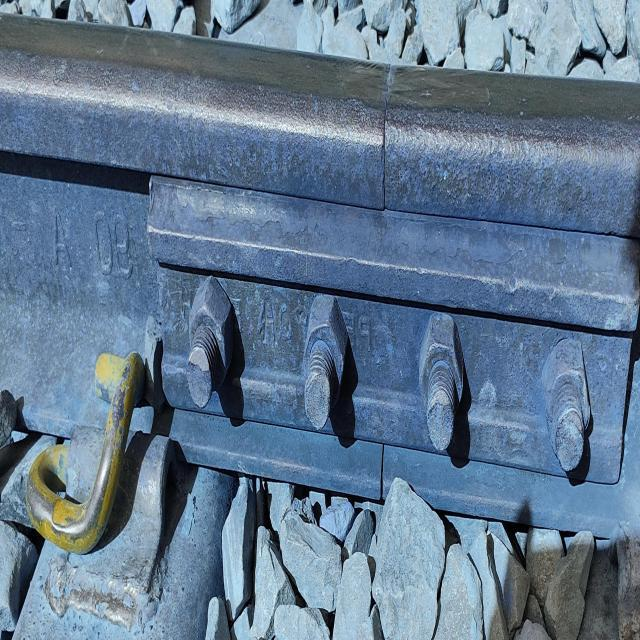Good Fasteners: (0, 351, 202, 639)
Good Joint: (147, 177, 640, 483)
